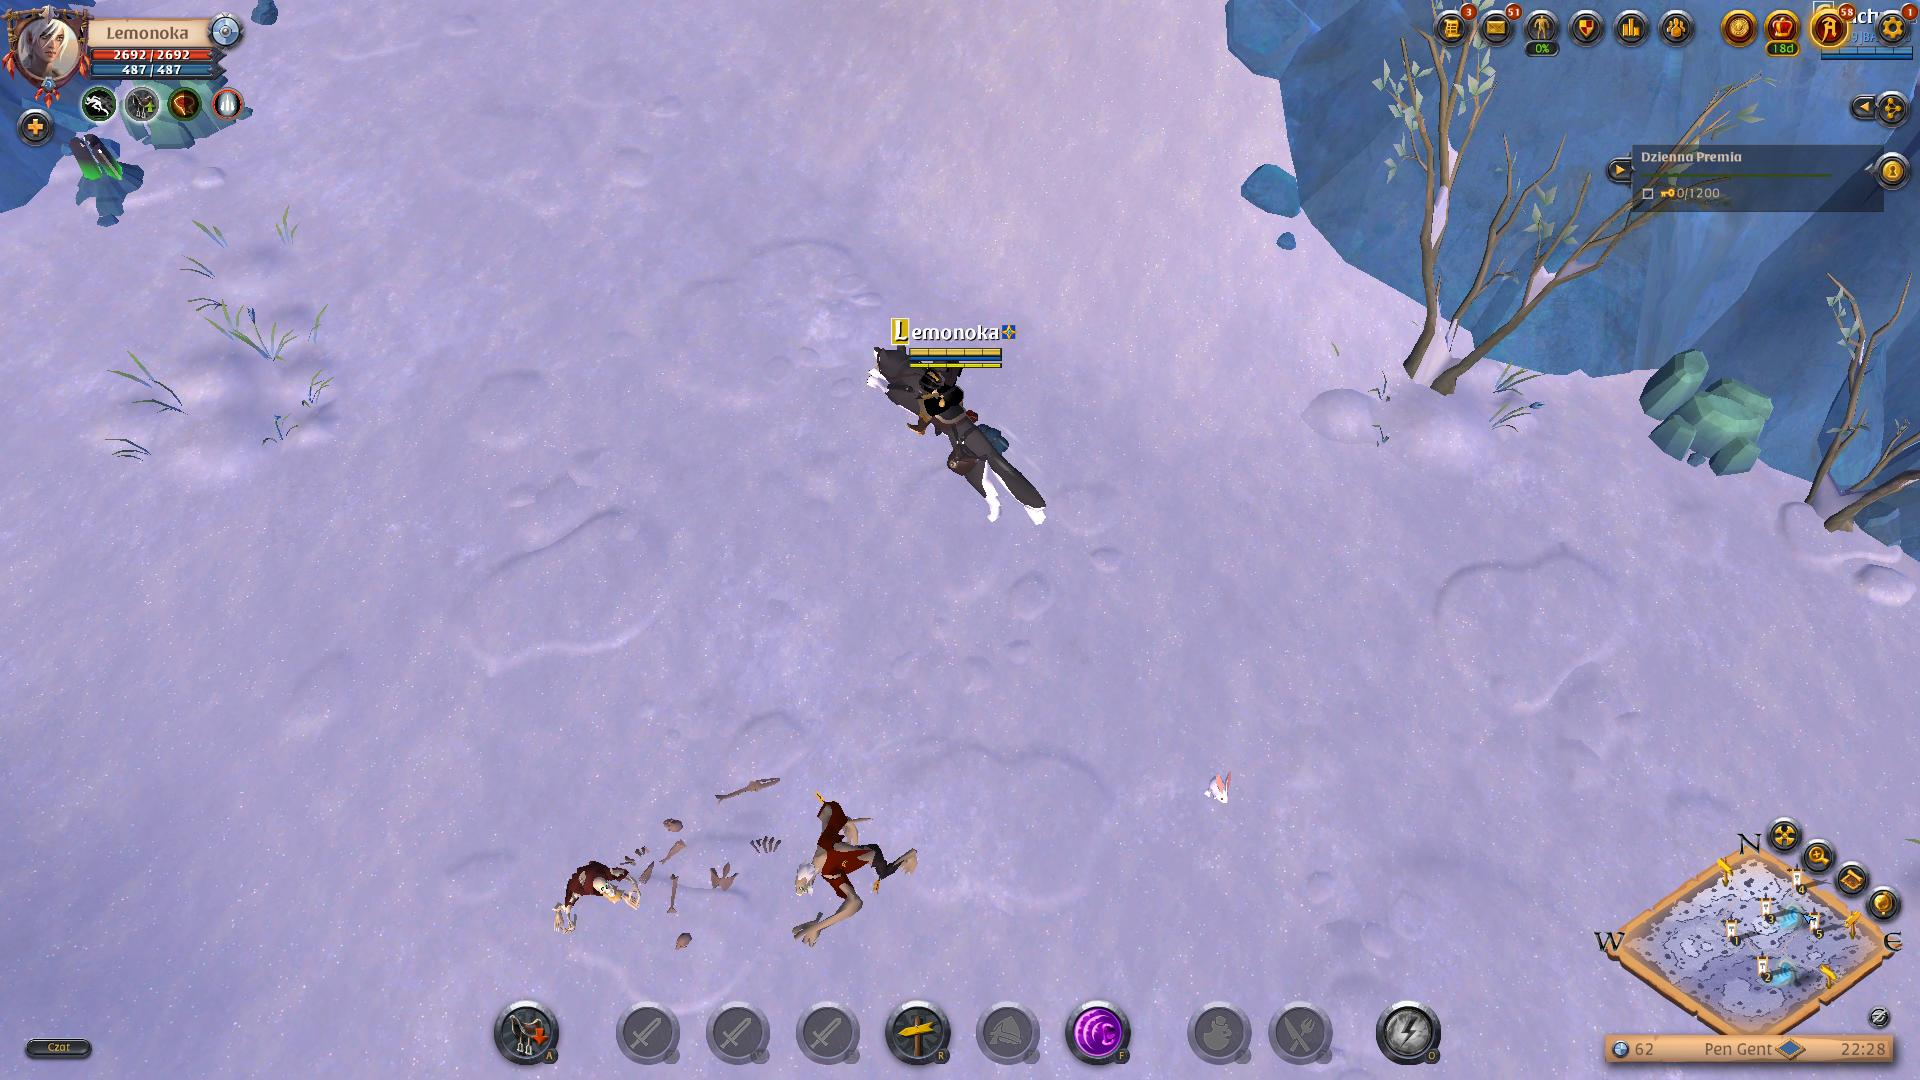ore tier 3: (63, 128, 148, 220)
rock tier 3: (1636, 345, 1780, 480)
